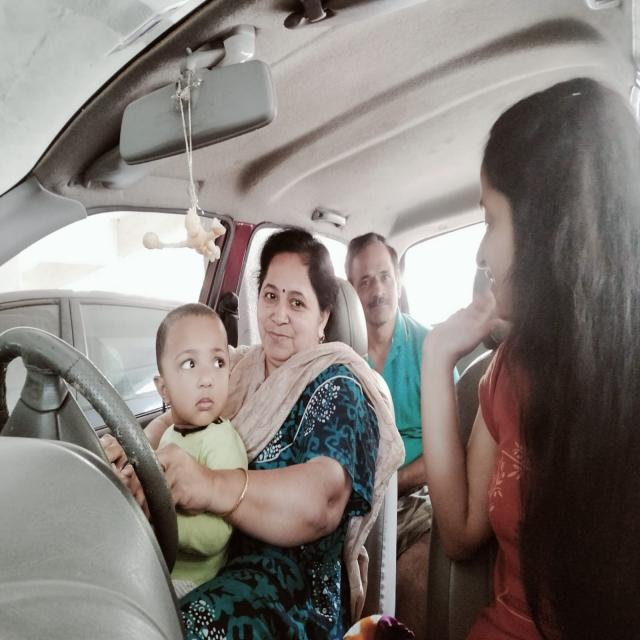child: (153, 298, 242, 428)
person: (470, 90, 593, 338), (250, 221, 338, 364), (344, 224, 410, 338)
